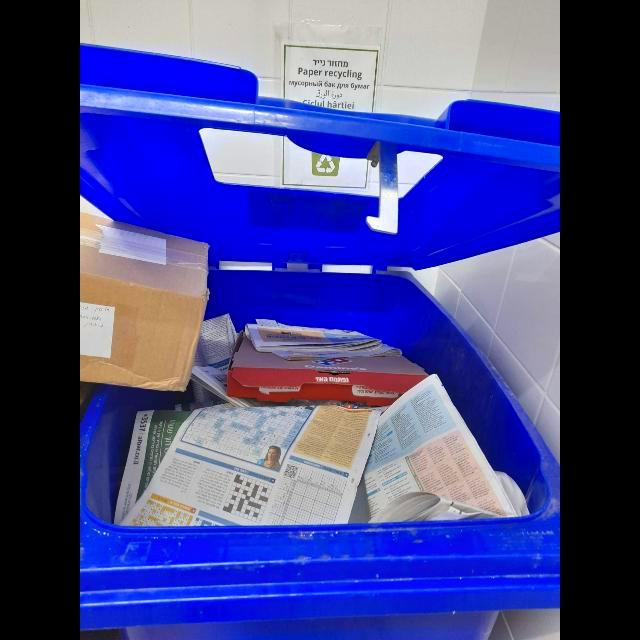cardboard: (80, 213, 209, 393)
paper: (121, 404, 386, 527), (365, 372, 519, 517), (115, 411, 192, 524), (246, 320, 400, 360), (373, 491, 498, 523), (197, 317, 236, 400)
